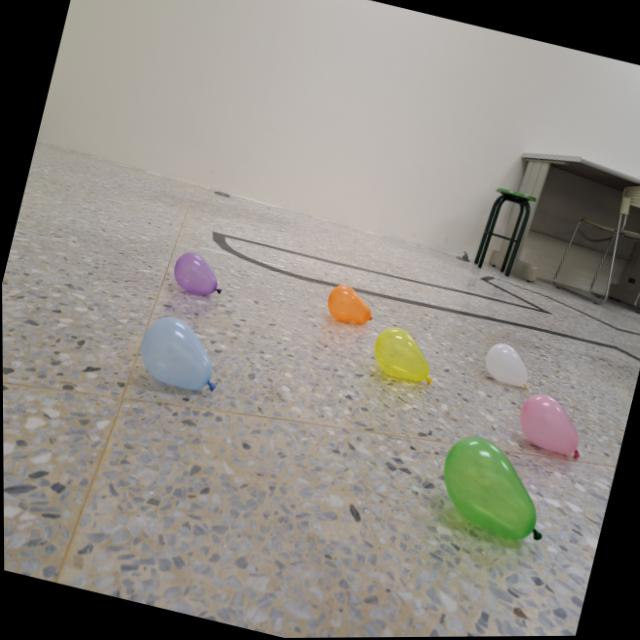other: (428, 429, 561, 549), (132, 308, 229, 400), (510, 391, 591, 464), (365, 323, 443, 387), (168, 249, 227, 302), (478, 339, 537, 392), (322, 280, 378, 329)
